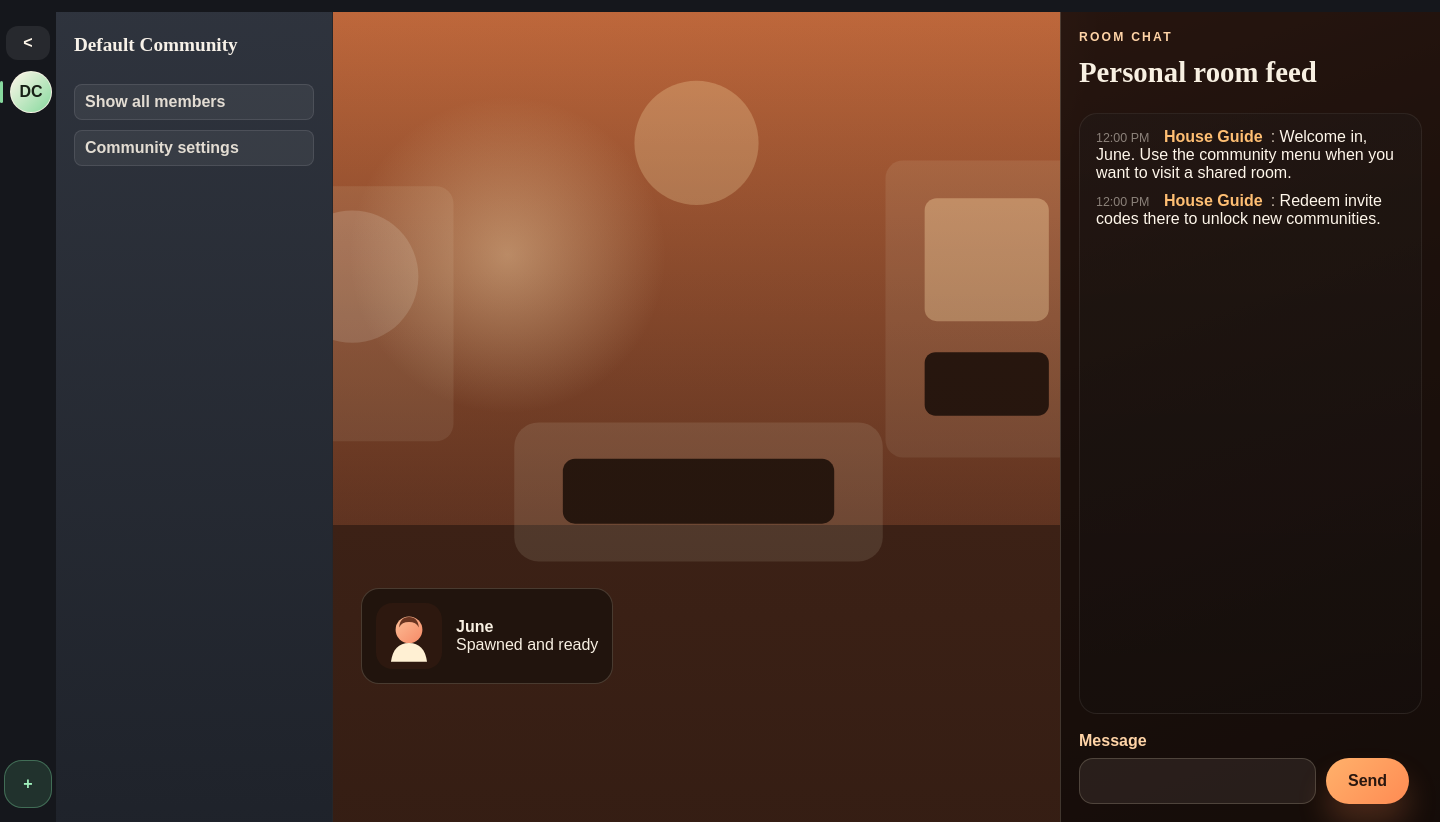
Test: LobbyView › lets community managers create rooms and opens the new room
The width and height of the screenshot is (1440, 822).
Click the button "Community settings".
click(194, 148)  # box x1=74 y1=130 x2=314 y2=166
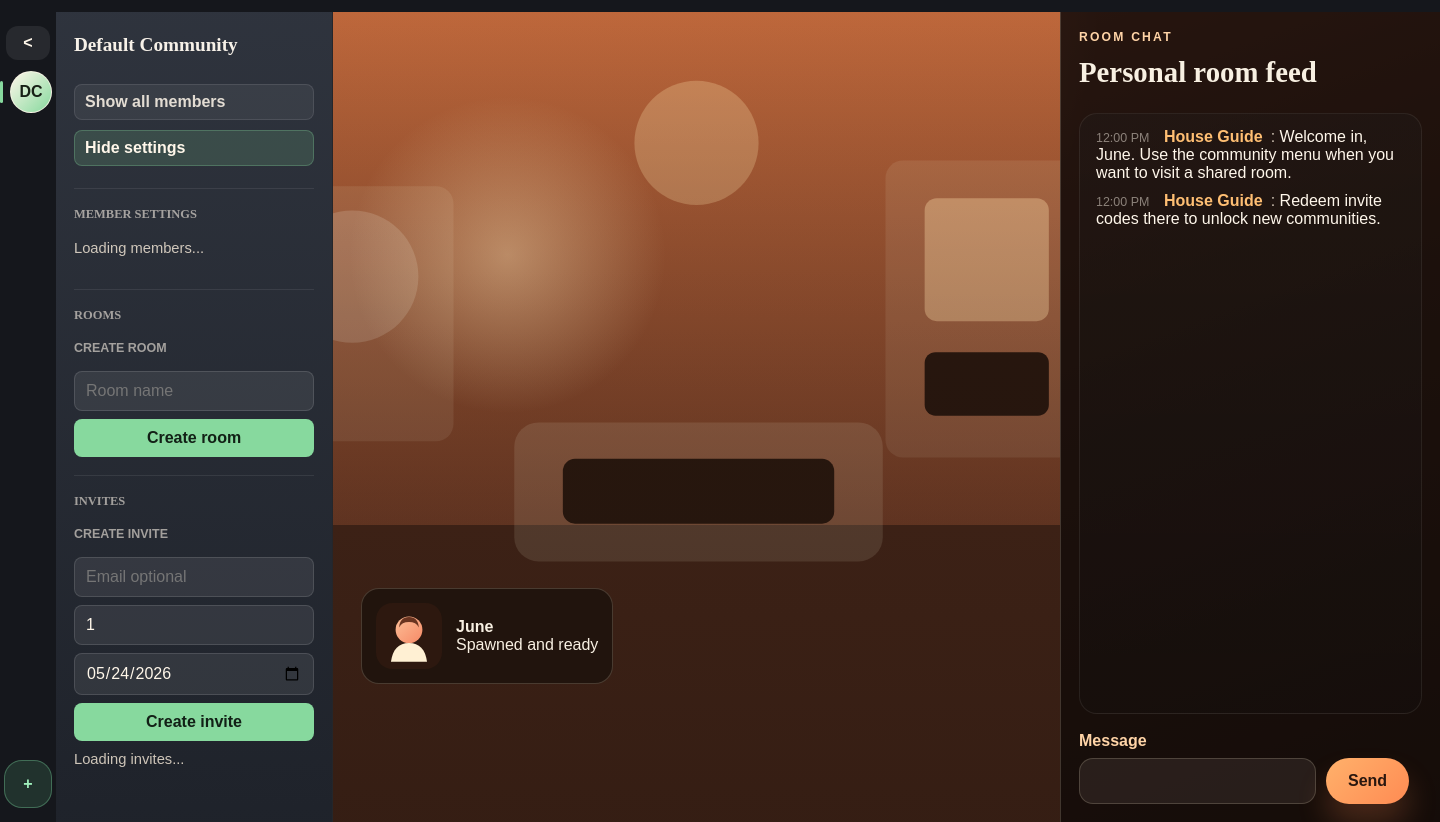
Type "Board Game Room" into the field labelled "Create room".
click(194, 391); type("Board Game Room")  # box x1=74 y1=371 x2=314 y2=411
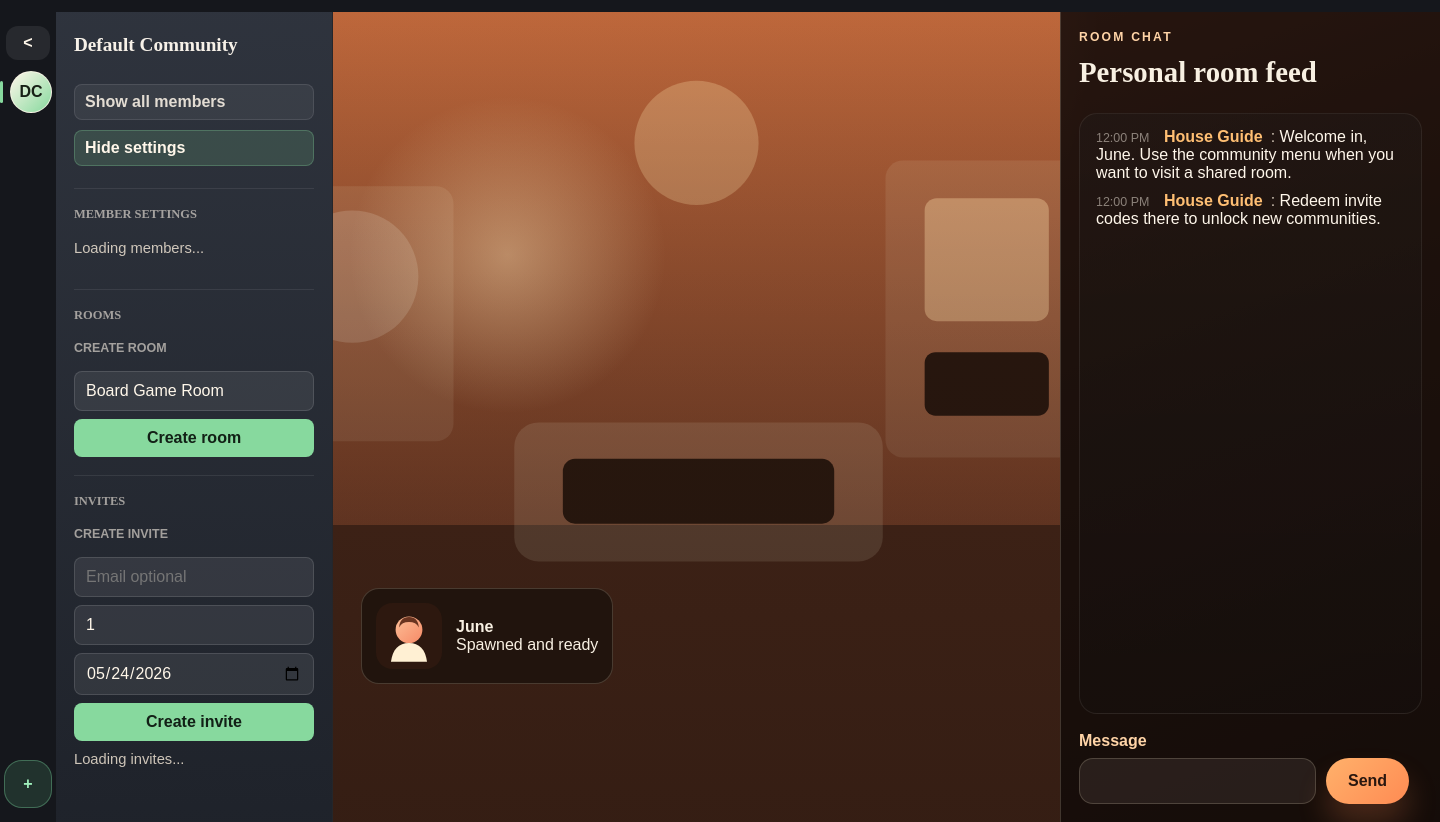
Click the button "Create room".
click(194, 438)  # box x1=74 y1=419 x2=314 y2=457
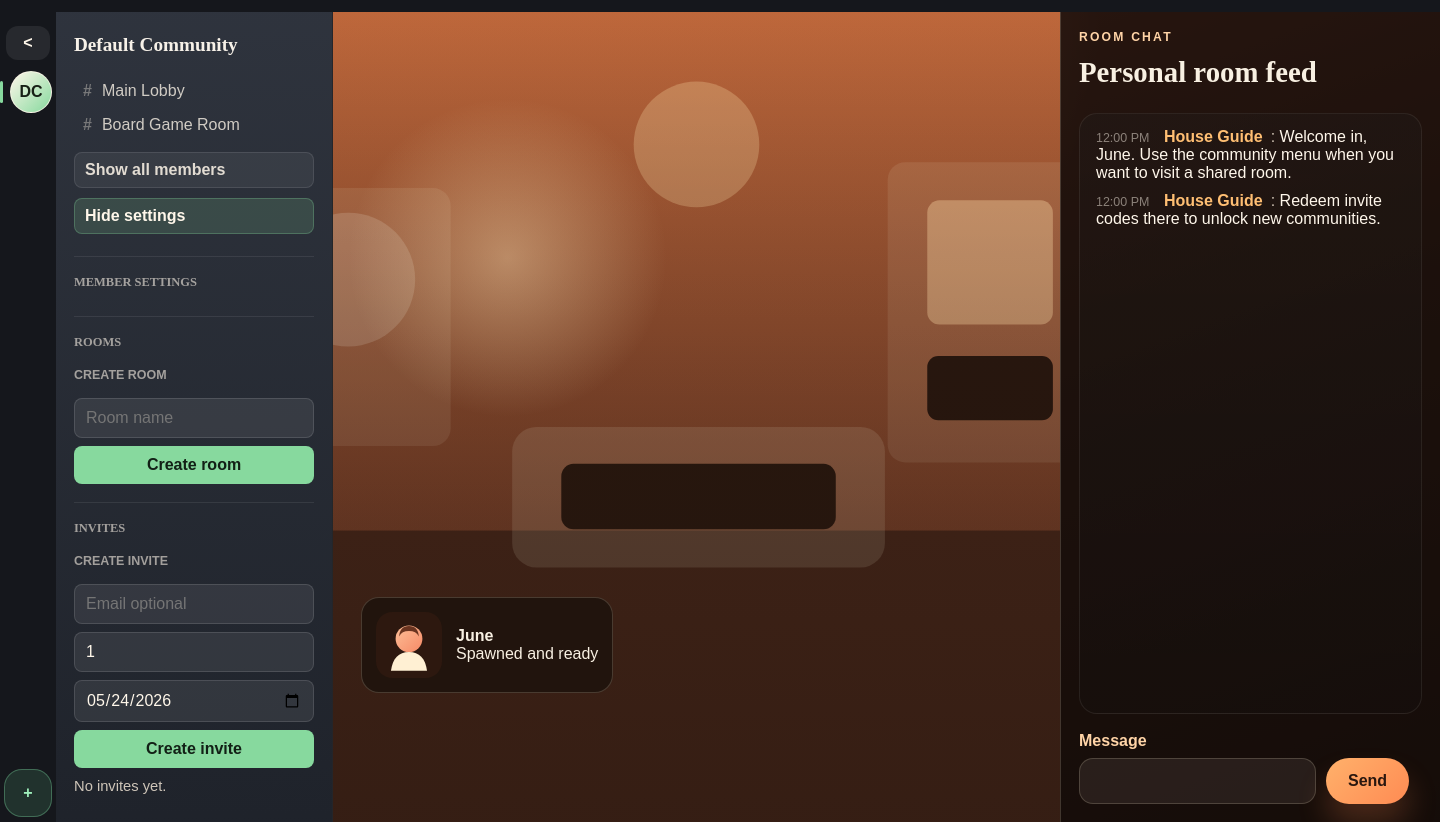
Expected: the button "# Board Game Room" is shown, x1=74 y1=108 x2=314 y2=142
